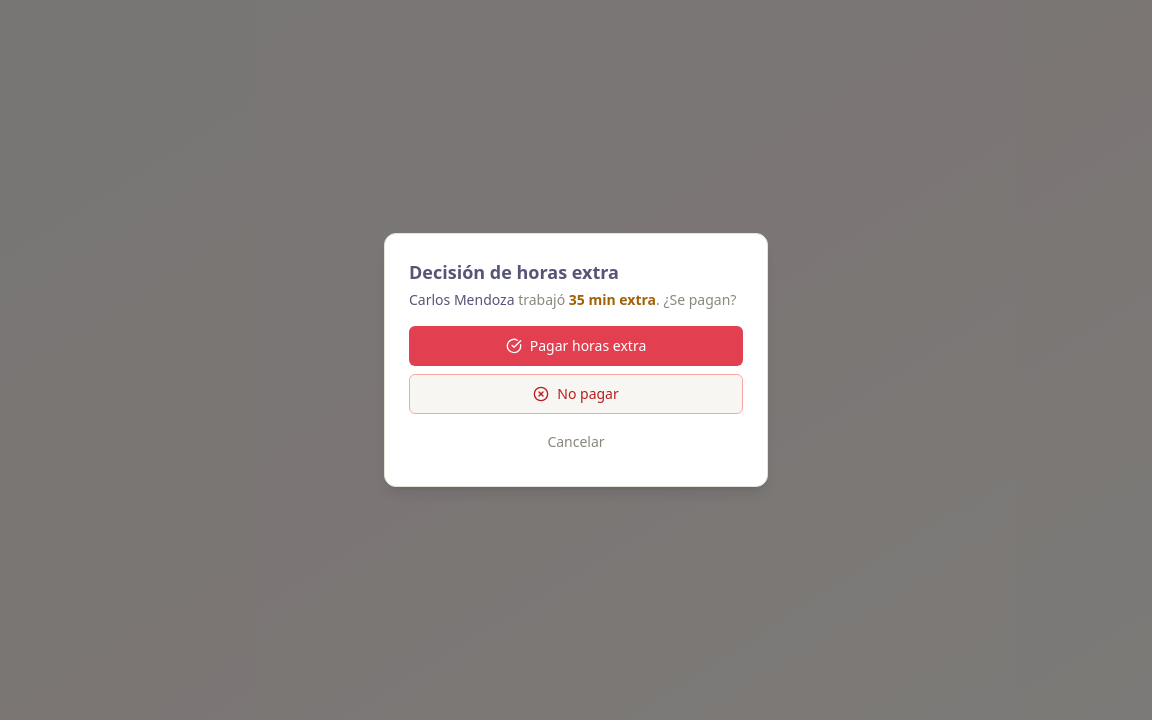
Test case: OvertimeDecisionDialog — actions › requires agreed_factor when SALARY_FACTOR method is selected
The width and height of the screenshot is (1152, 720).
Click the button with test id "btn-authorize-overtime": (576, 346) x1=409 y1=326 x2=743 y2=366
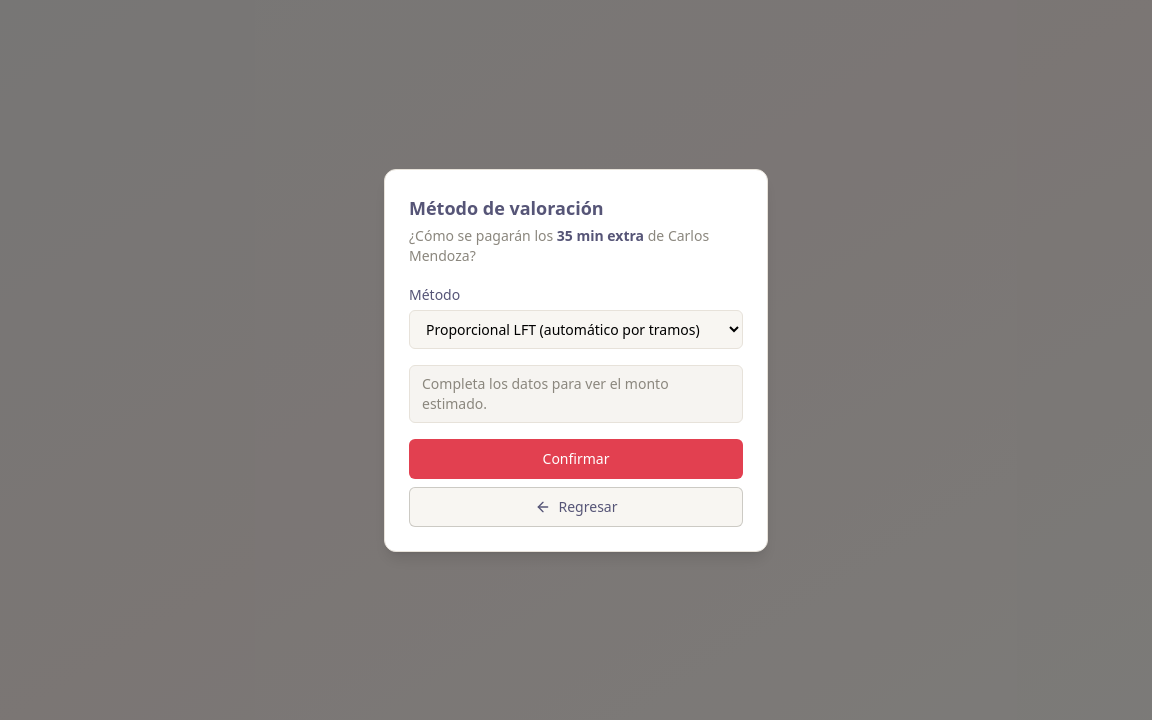
Select "Factor sobre salario" in the dropdown labelled "Método": (576, 329) x1=409 y1=310 x2=743 y2=348
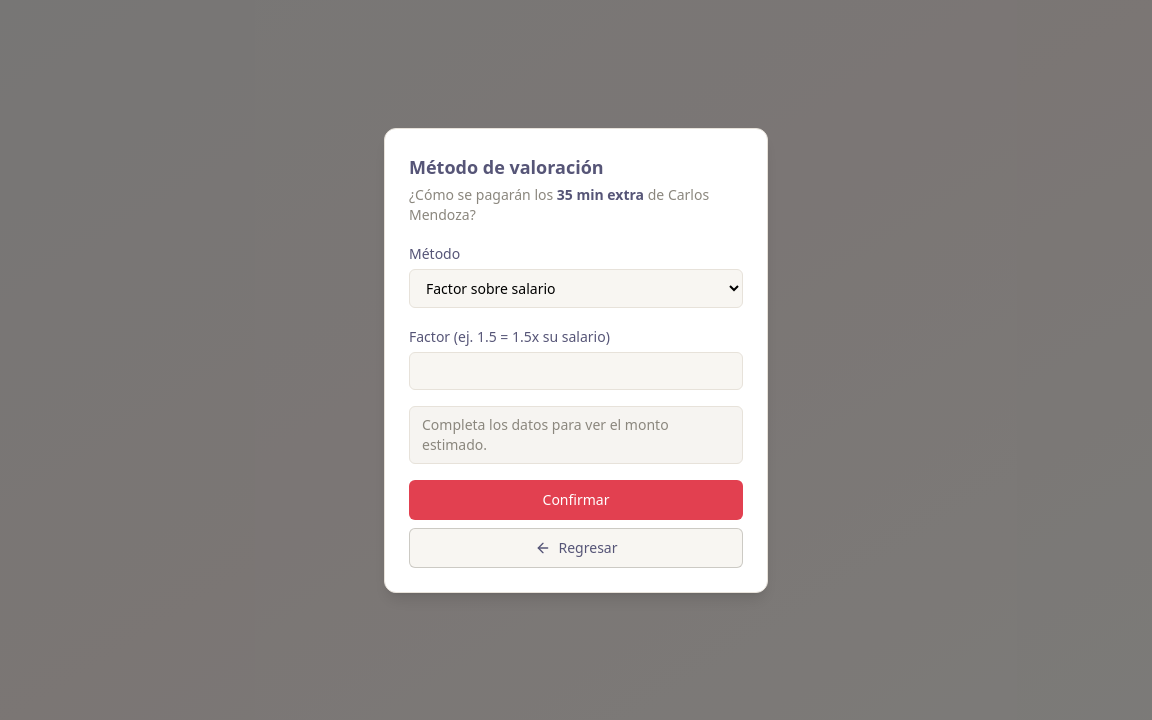
Click the button with test id "btn-confirm-valuation": (576, 500) x1=409 y1=480 x2=743 y2=520
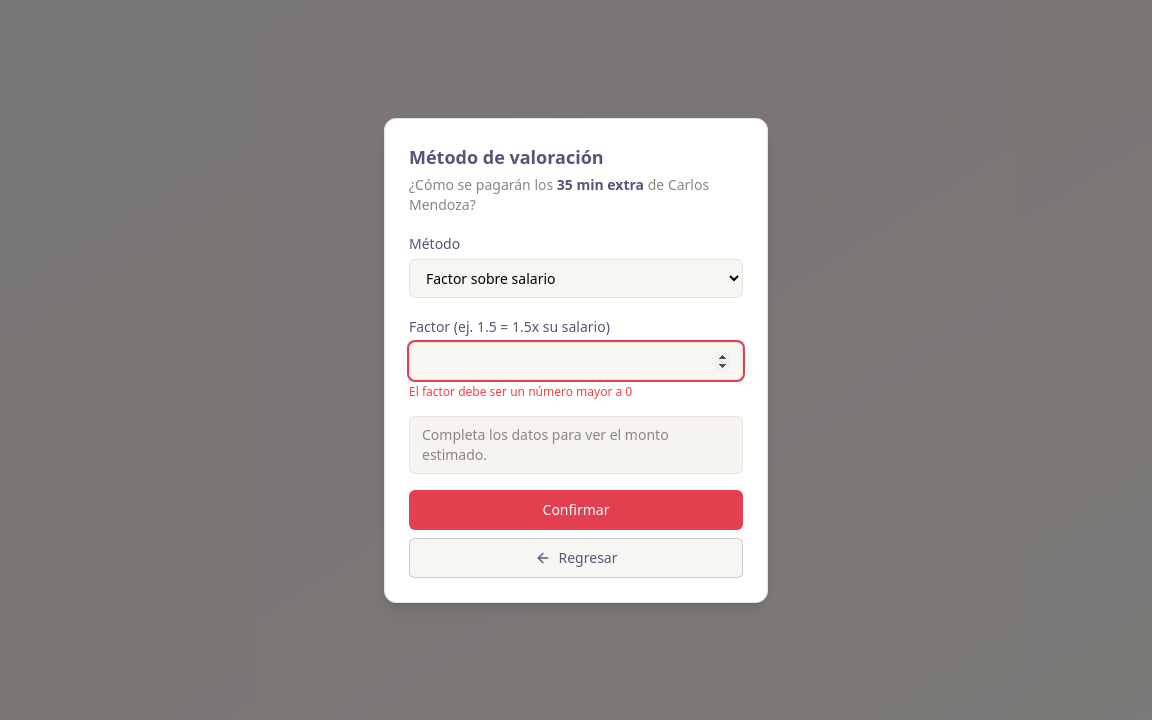
Check: the text "El factor debe ser un número mayor a 0" is shown, box x1=409 y1=382 x2=632 y2=400
